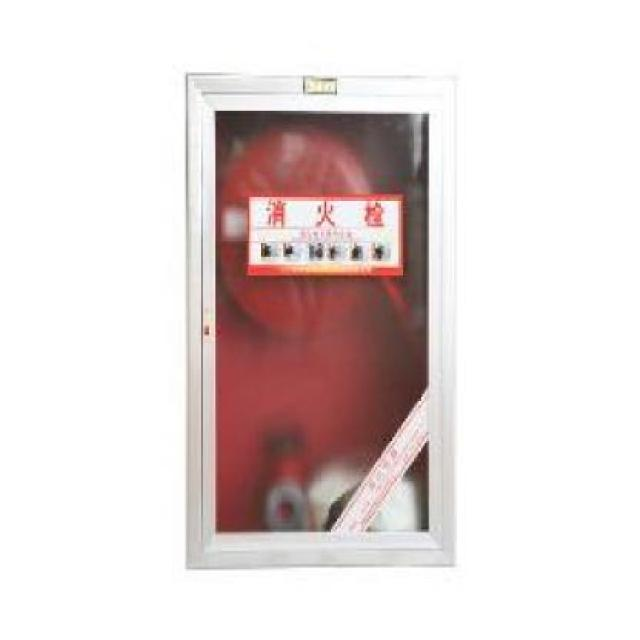firehydrant: (182, 66, 462, 579)
